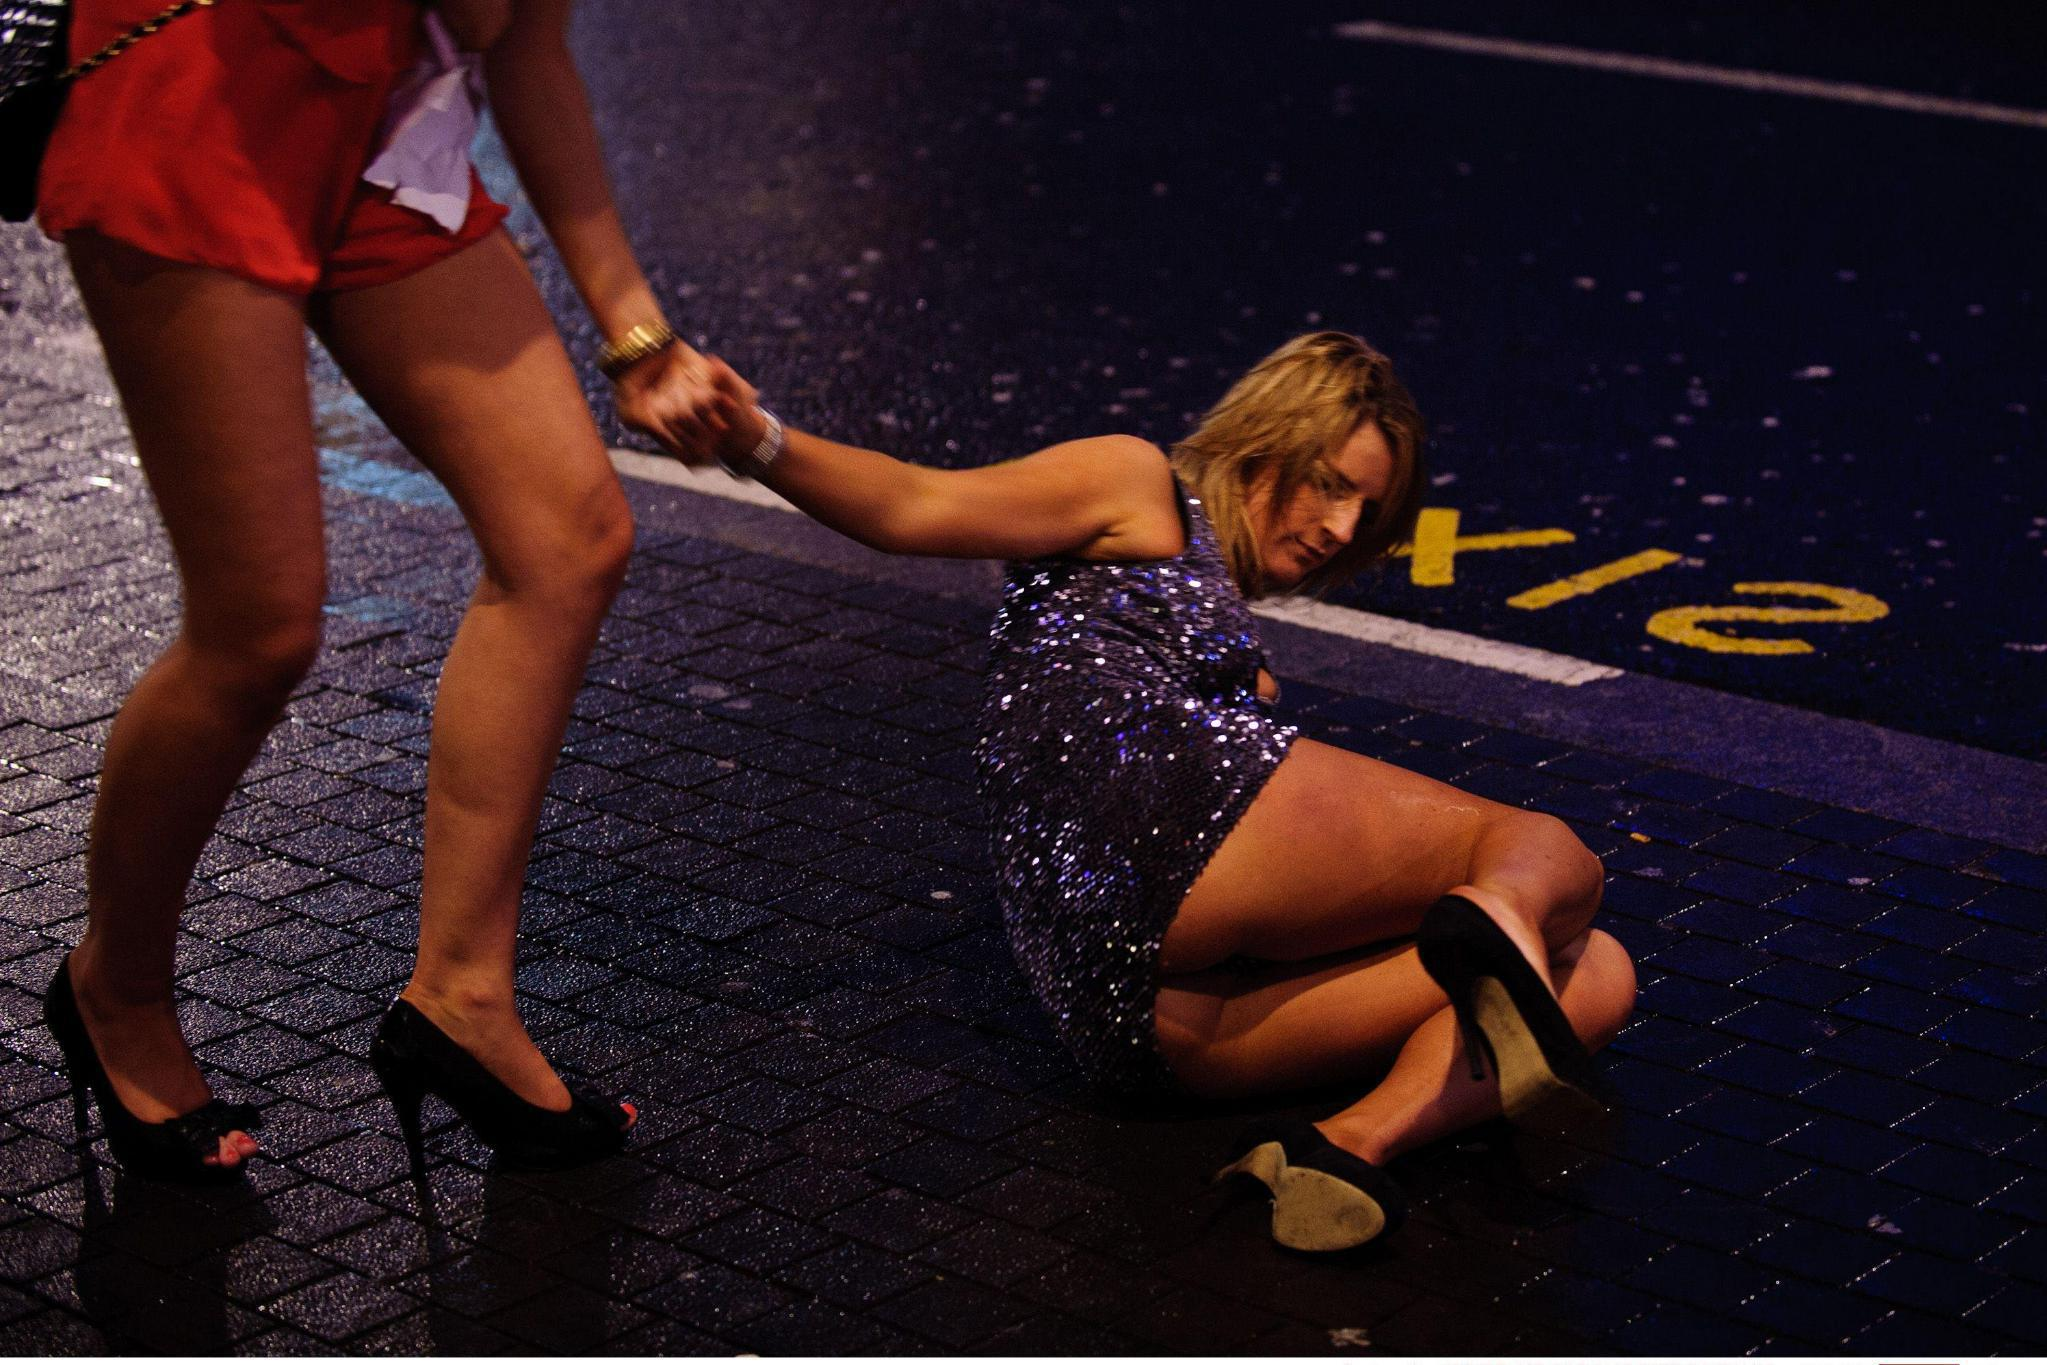Drunk: (1247, 414, 1391, 577)
